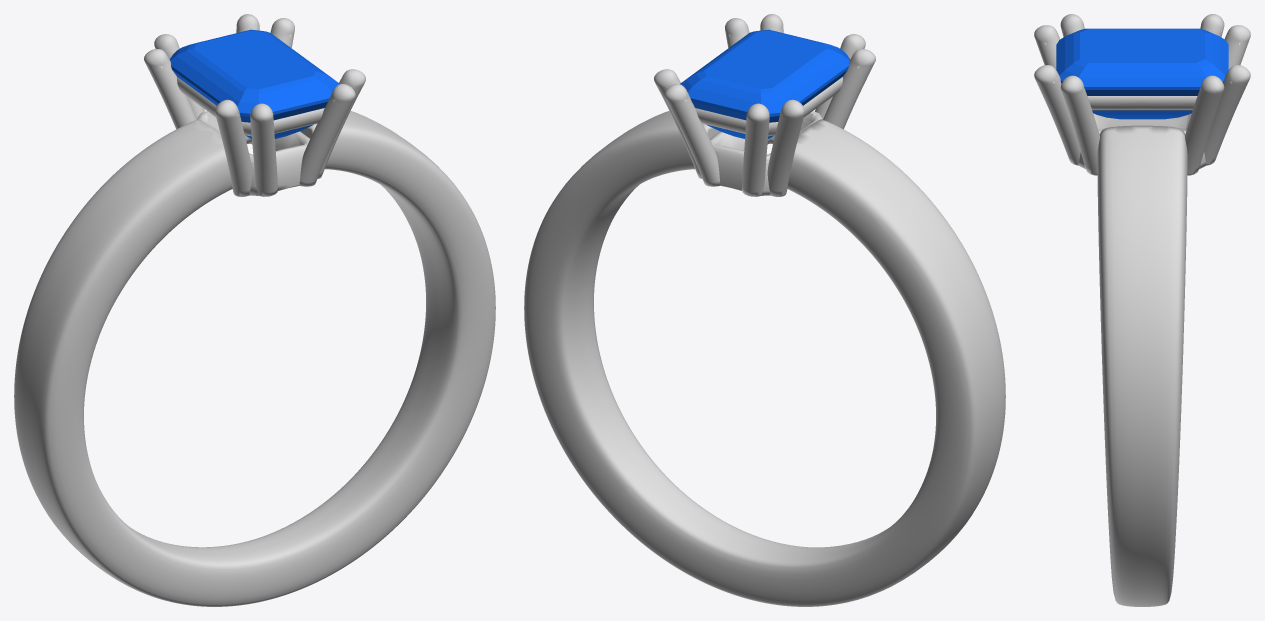
File: bluesapphire-emerald-platinum-8prong-straighttaperedband-solitaire.glb
3 renders of one model, left to right at view 1: azimuth 30°, elevation 25°; view 2: azimuth 150°, elevation 25°; view 3: azimuth 270°, elevation 25°, orthographic.
Visible parts, largest first — view 1: metal.002, stone; view 2: metal.002, stone; view 3: metal.002, stone.
Boxes of the visible parts, x1=… form: metal.002: x1=14, y1=14, x2=495, y2=606; stone: x1=169, y1=29, x2=339, y2=138; metal.002: x1=524, y1=14, x2=1005, y2=606; stone: x1=680, y1=29, x2=850, y2=138; metal.002: x1=1034, y1=14, x2=1250, y2=606; stone: x1=1056, y1=28, x2=1228, y2=119.
Size of the model in its own units: 20.49 by 22.95 by 8.4.
